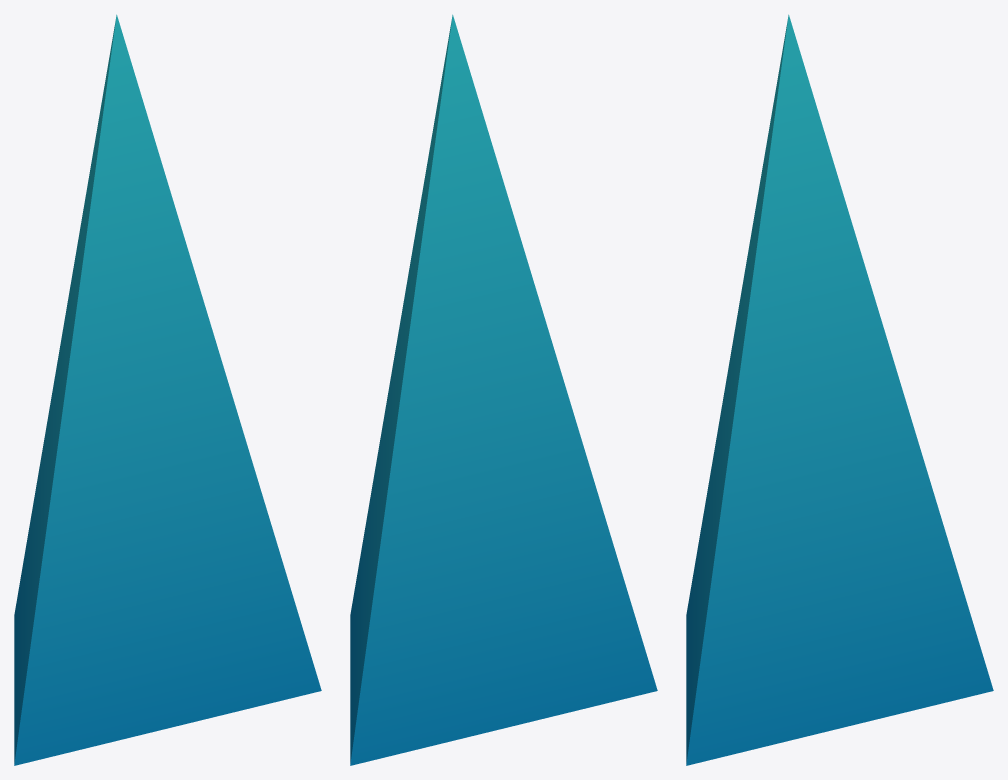
File: Spike_1.fbx
3 renders of one model, left to right at view 1: azimuth 30°, elevation 25°; view 2: azimuth 150°, elevation 25°; view 3: azimuth 270°, elevation 25°, orthographic.
Visible parts, largest first — view 1: Spike; view 2: Spike; view 3: Spike.
Part boxes in pixels (x1,y1,x2,y2): Spike: (14,14,321,765); Spike: (350,14,657,765); Spike: (686,14,993,765).
Size of the model in its own units: 95.09 by 200 by 82.35.
